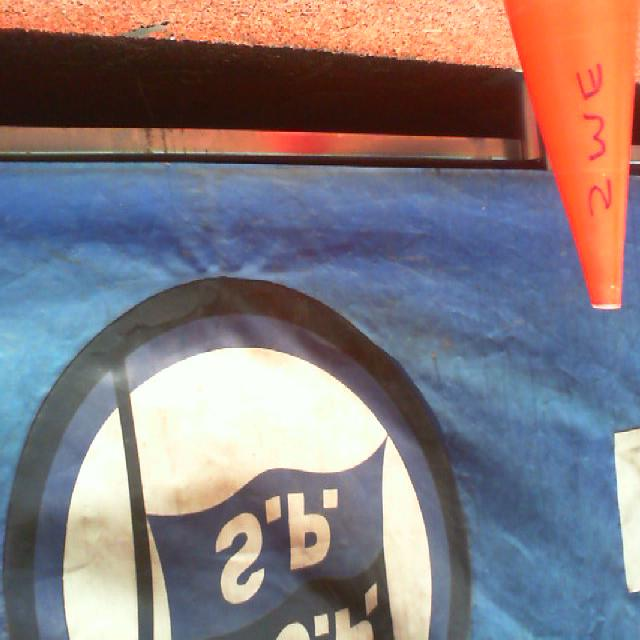cone: (502, 2, 640, 310)
